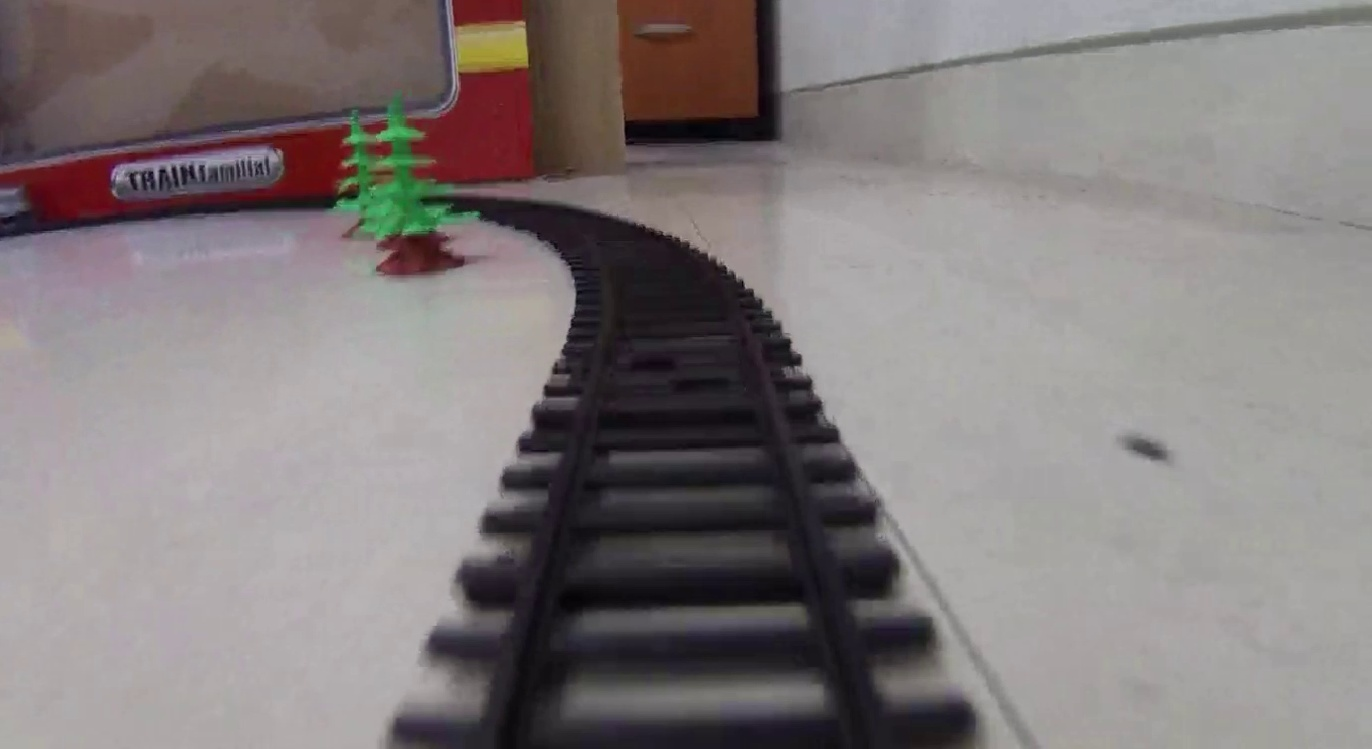tree: (368, 95, 459, 272)
